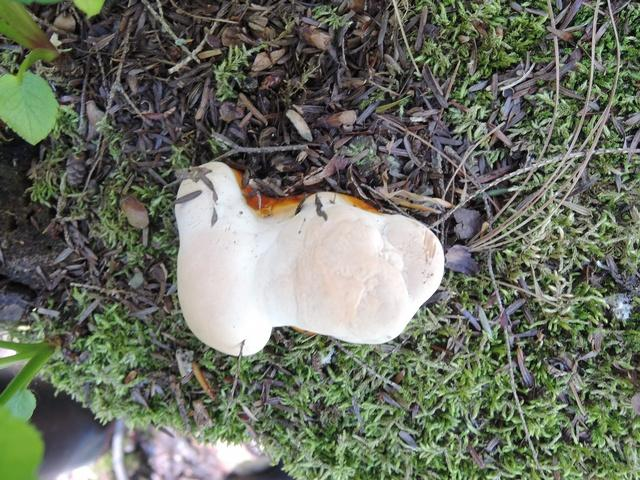Non-edible Mushroom: (172, 159, 446, 357)
